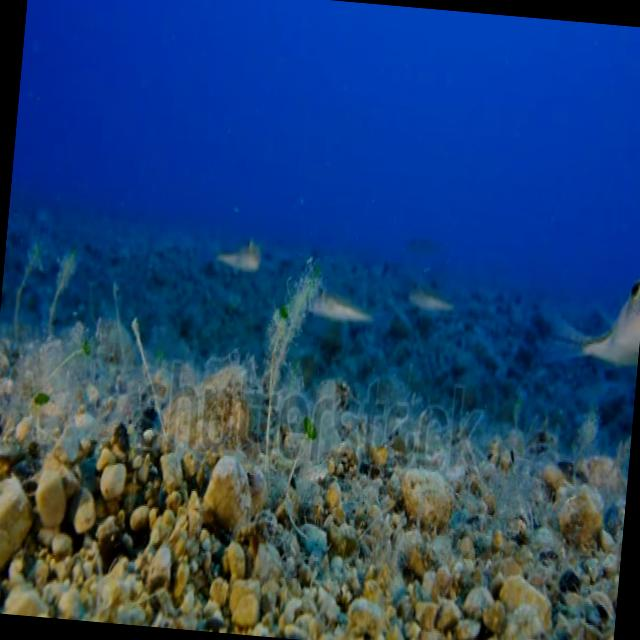Balon Baligi: (562, 261, 640, 373), (300, 277, 370, 329), (214, 232, 265, 274)
